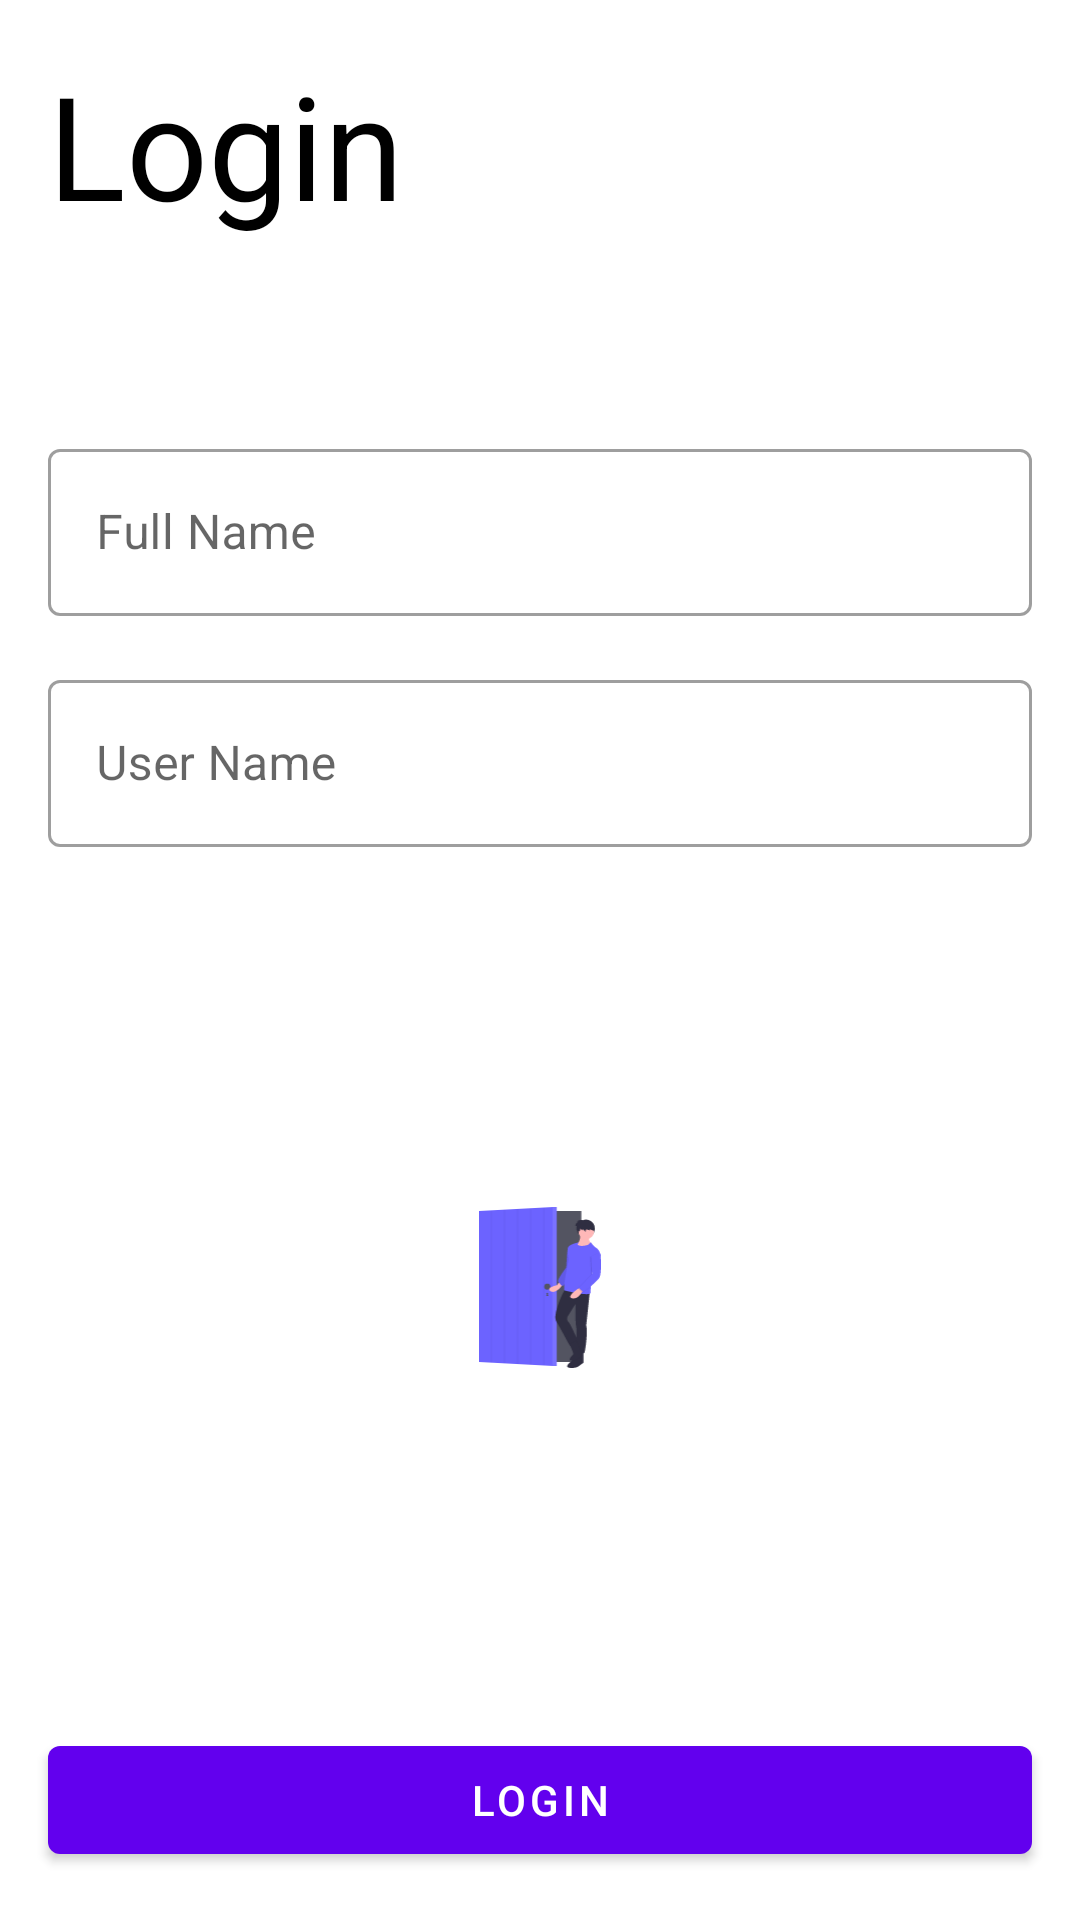

Named icons in this screenshot (1080*1920) and their bounding boxes, (x1, y1, x2, y2):
login: (479, 1207, 601, 1368)
